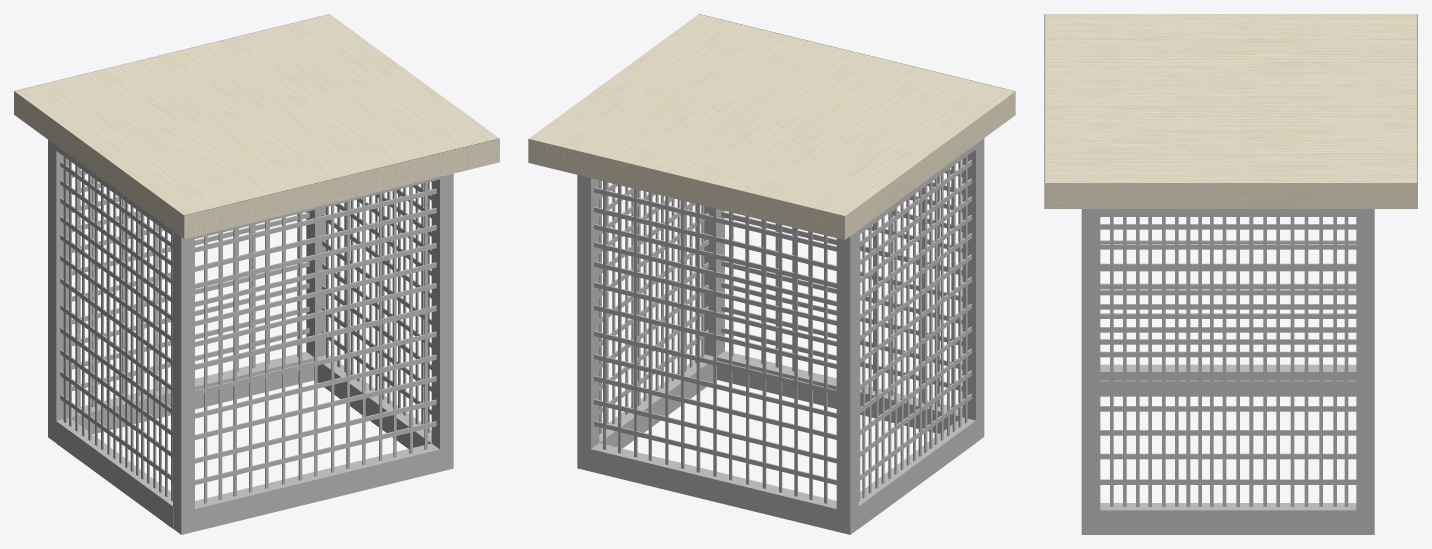
Rendered from cage tables 2.fbx.
The picture shows the model from 3 angles, left to right: view 1: azimuth 30°, elevation 25°; view 2: azimuth 150°, elevation 25°; view 3: azimuth 270°, elevation 25°; orthographic projection. The views are drawn at different scales.
Visible parts, largest first — view 1: Cage_Table:CageTable, pCube8, pCube5, pCube7, pCube4, pCube6; view 2: Cage_Table:CageTable, pCube8, pCube6, pCube5, pCube4, pCube7; view 3: Cage_Table:CageTable, pCube4, pCube5, pCube6, pCube7, pCube8.
Part boxes in pixels (x1=…): Cage_Table:CageTable: x1=48, y1=140, x2=453, y2=534; pCube8: x1=14, y1=77, x2=252, y2=239; pCube5: x1=197, y1=30, x2=434, y2=193; pCube7: x1=69, y1=61, x2=306, y2=225; pCube4: x1=262, y1=14, x2=499, y2=178; pCube6: x1=133, y1=46, x2=370, y2=209; Cage_Table:CageTable: x1=577, y1=138, x2=984, y2=534; pCube8: x1=776, y1=78, x2=1015, y2=239; pCube6: x1=657, y1=46, x2=895, y2=210; pCube5: x1=593, y1=30, x2=831, y2=194; pCube4: x1=528, y1=14, x2=766, y2=179; pCube7: x1=721, y1=62, x2=960, y2=226; Cage_Table:CageTable: x1=1081, y1=209, x2=1374, y2=534; pCube4: x1=1044, y1=146, x2=1417, y2=208; pCube5: x1=1044, y1=111, x2=1417, y2=147; pCube6: x1=1044, y1=77, x2=1417, y2=113; pCube7: x1=1044, y1=43, x2=1417, y2=79; pCube8: x1=1044, y1=14, x2=1417, y2=50.
Bounding box in the file's own units: 131 × 133 × 122.
